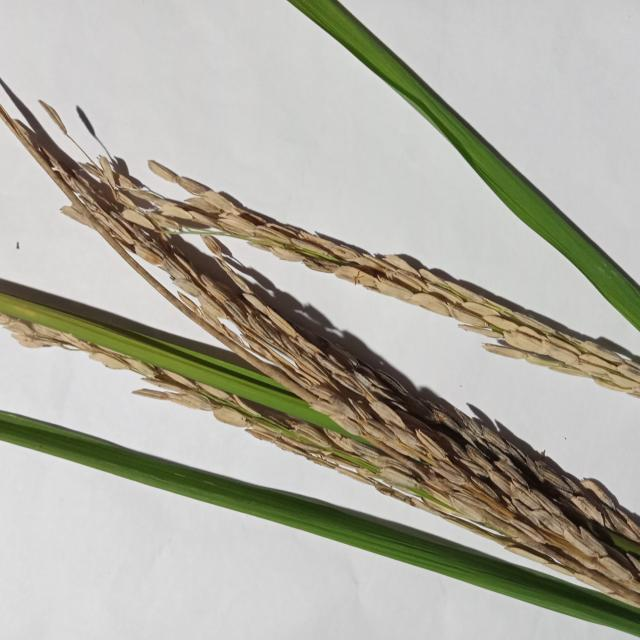Neck_Blast: (0, 116, 640, 603), (132, 157, 640, 405)
